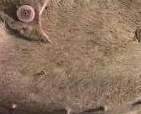text: (11, 2, 42, 27)
